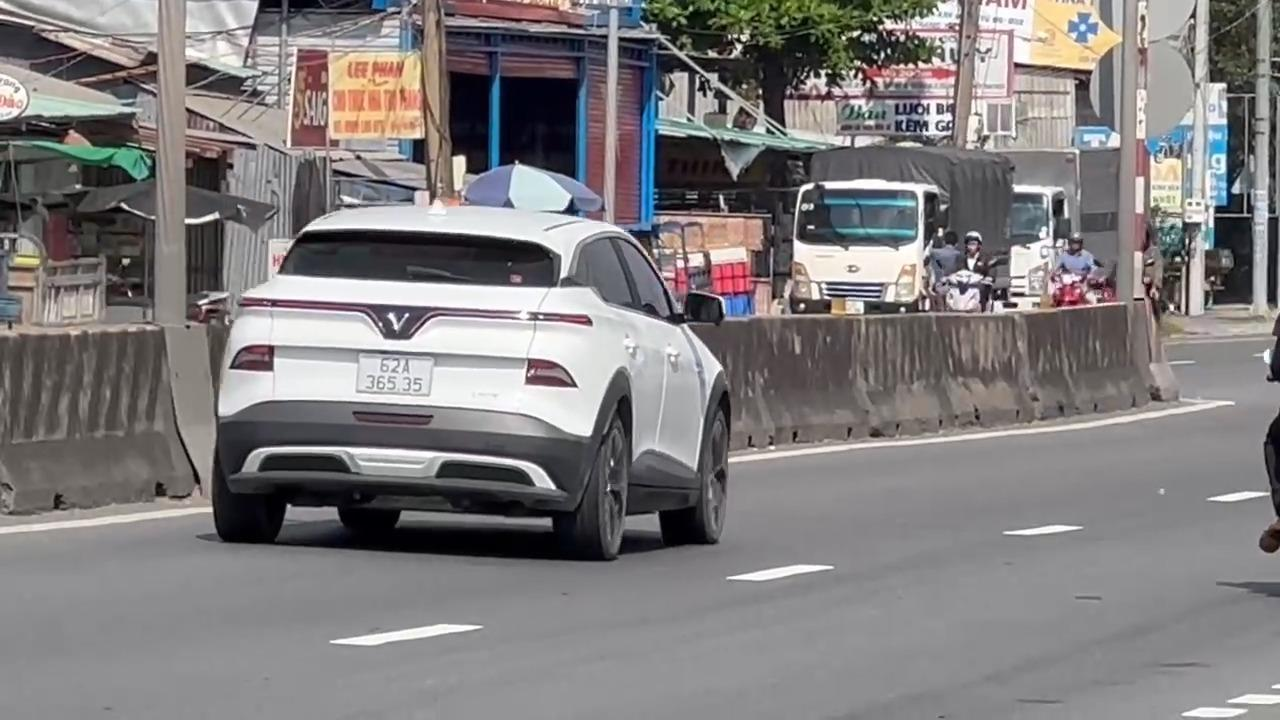bien_so: (355, 352, 434, 396)
